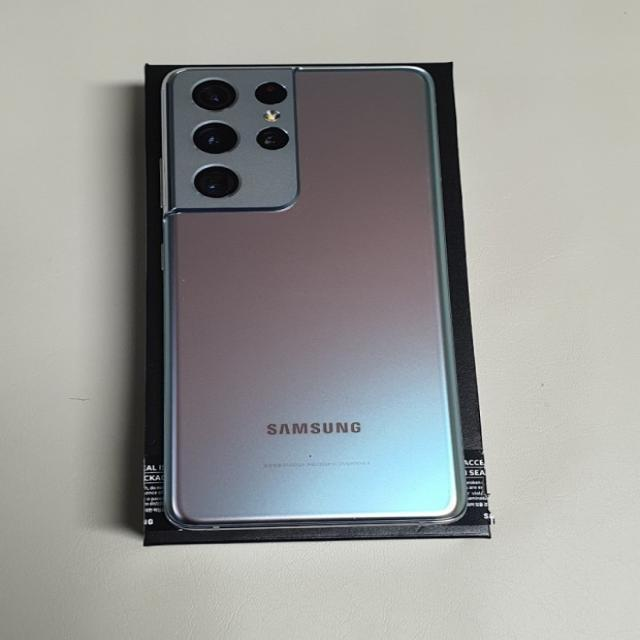phone: (158, 58, 472, 527)
